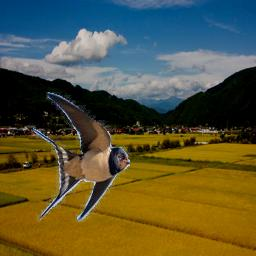Swallow: (31, 92, 130, 222)
